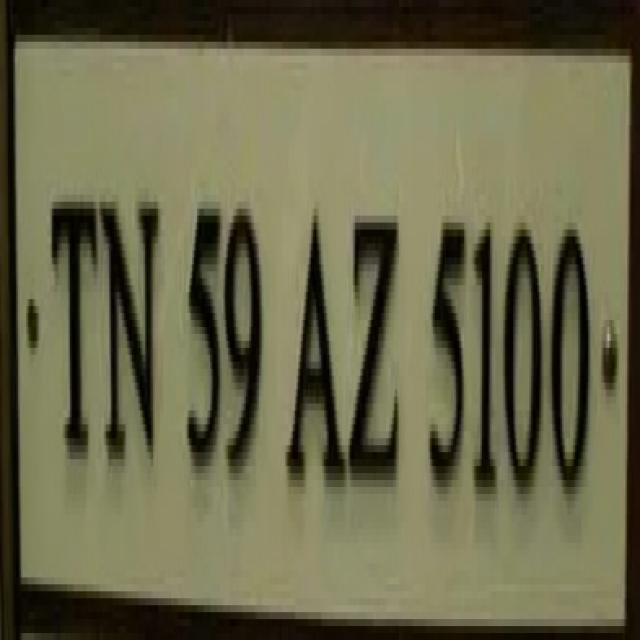0: (547, 198, 597, 508), (502, 209, 544, 514)
1: (469, 214, 499, 516)
5: (426, 169, 469, 523), (181, 153, 222, 484)
9: (223, 182, 264, 503)
A: (284, 198, 350, 520)
N: (97, 169, 161, 523)
T: (46, 172, 101, 469)
Z: (348, 158, 403, 512)
